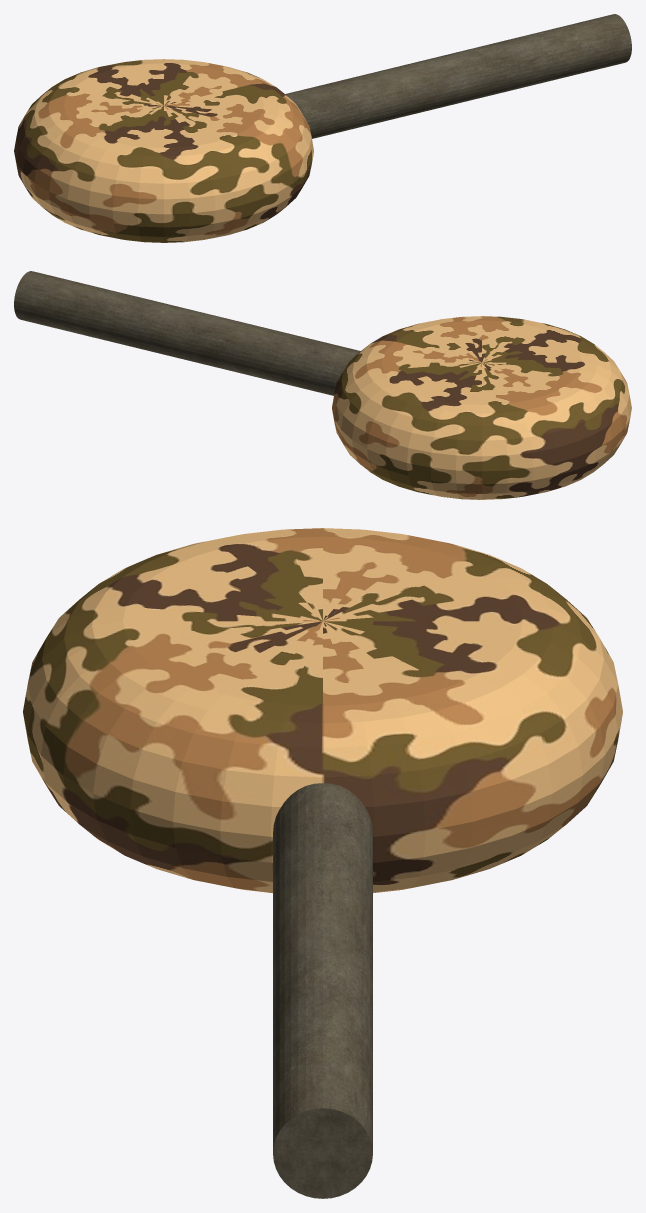
Rendered from tank_top.obj.
The picture shows the model from 3 angles, top to bottom: view 1: azimuth 30°, elevation 25°; view 2: azimuth 150°, elevation 25°; view 3: azimuth 270°, elevation 25°; orthographic projection. The views are drawn at different scales.
Parts seen in each view (by area): view 1: Null aufbau, Null aufbau rohr; view 2: Null aufbau, Null aufbau rohr; view 3: Null aufbau, Null aufbau rohr.
Boxes of the visible parts, box(x1,y1,x2,y2) form: Null aufbau: box(14, 59, 313, 242); Null aufbau rohr: box(285, 14, 631, 138); Null aufbau: box(332, 316, 631, 499); Null aufbau rohr: box(14, 271, 360, 395); Null aufbau: box(23, 528, 622, 892); Null aufbau rohr: box(273, 783, 372, 1198).
Bounding box in the file's own units: 1.35 × 0.2 × 0.6.
Materials: 2 (2 with a texture image).
